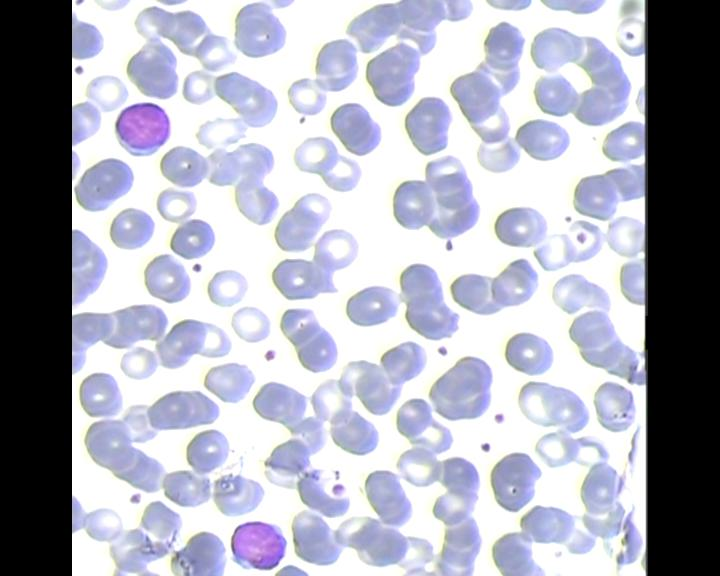lymp: (112, 98, 177, 158), (223, 519, 289, 572)
